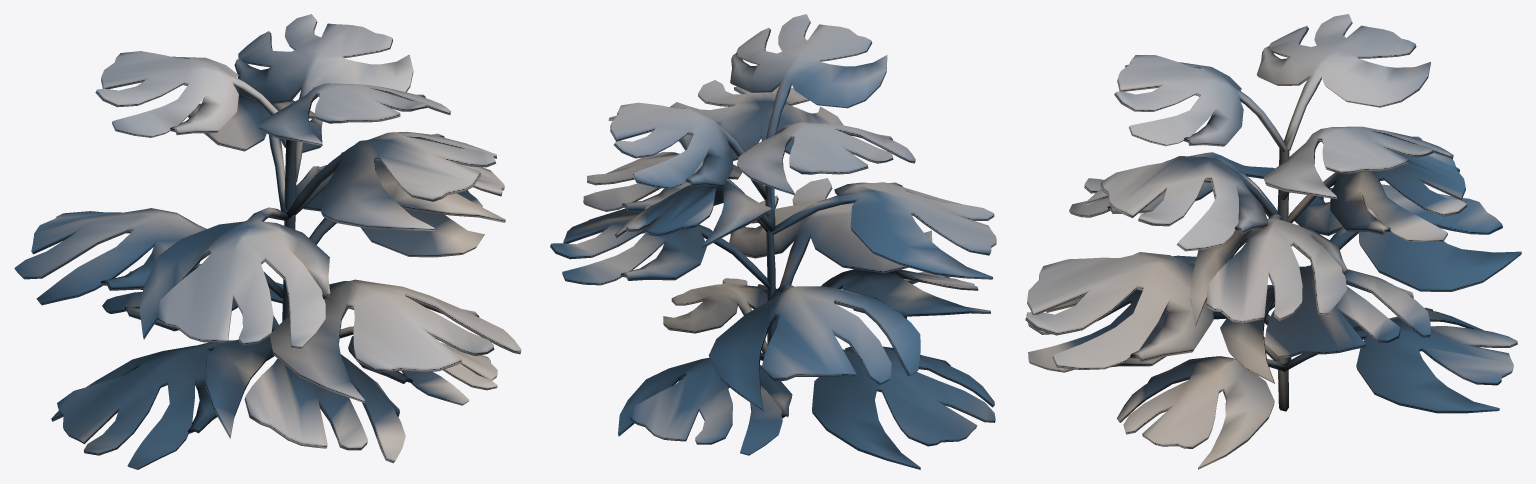
The model's file is PlantCheese.fbx.
The picture shows the model from 3 angles, left to right: view 1: azimuth 30°, elevation 25°; view 2: azimuth 150°, elevation 25°; view 3: azimuth 270°, elevation 25°; orthographic projection. The views are drawn at different scales.
Parts seen in each view (by area): view 1: PlantCheese; view 2: PlantCheese; view 3: PlantCheese.
Part boxes in pixels (x1,y1,x2,y2): PlantCheese: [14, 14, 521, 469]; PlantCheese: [550, 14, 996, 469]; PlantCheese: [1025, 14, 1521, 469].
Size of the model in its own units: 57.19 by 44.43 by 58.54.
